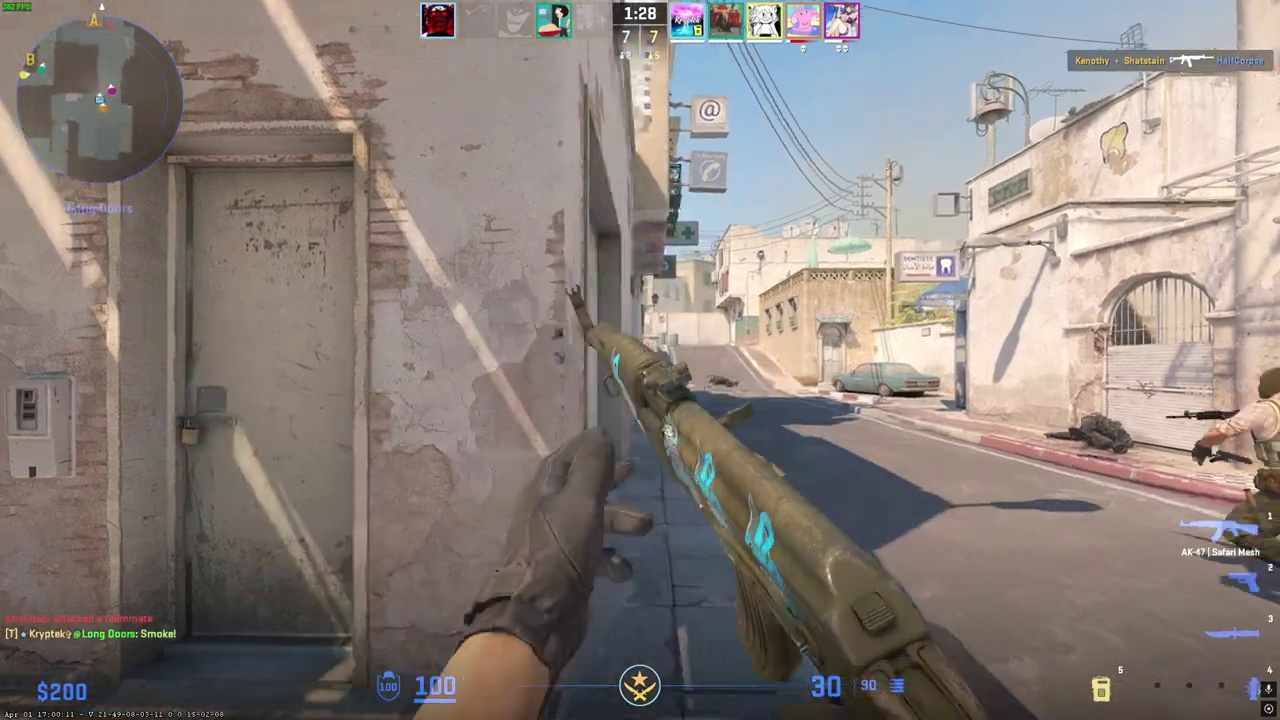Terrorist: (1209, 363, 1280, 612)
